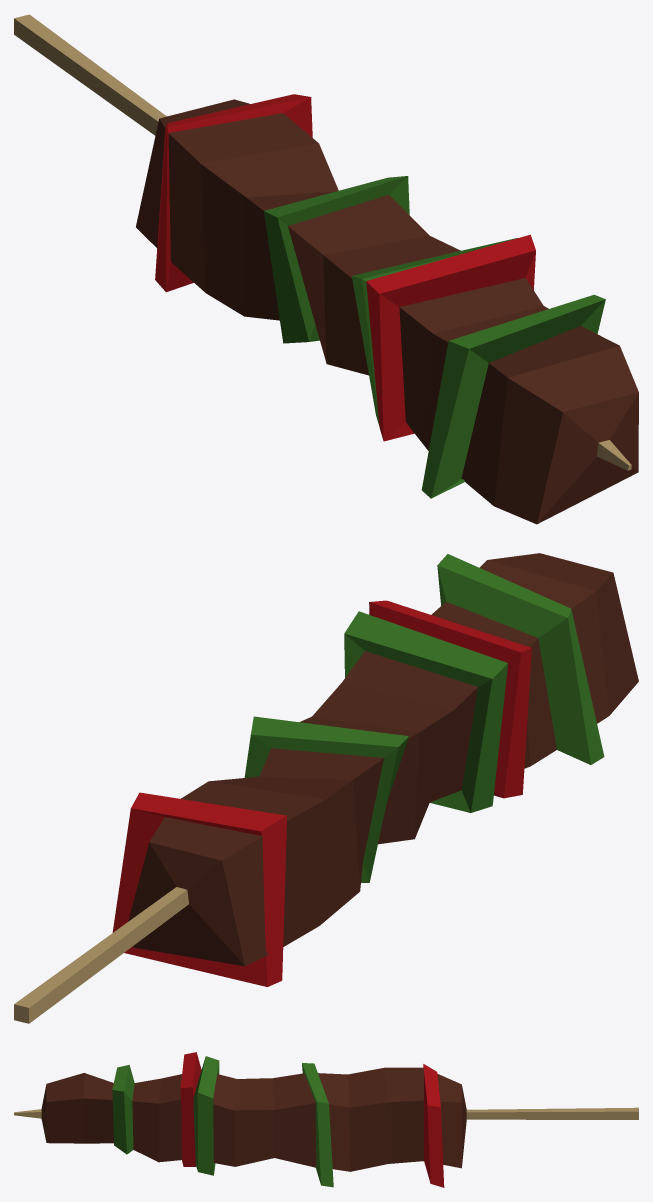
The model's file is Skewer.fbx.
3 views of the same model, one above another, from view 1: azimuth 30°, elevation 25°; view 2: azimuth 150°, elevation 25°; view 3: azimuth 270°, elevation 25° (orthographic). The views are drawn at different scales.
Visible parts, largest first — view 1: Meat Skewer; view 2: Meat Skewer; view 3: Meat Skewer.
Part boxes in pixels (x1,y1,x2,y2): Meat Skewer: (14,14,638,524); Meat Skewer: (14,553,638,1023); Meat Skewer: (14,1052,638,1187).
Bounding box in the file's own units: 0.5388 × 0.509 × 2.93.
